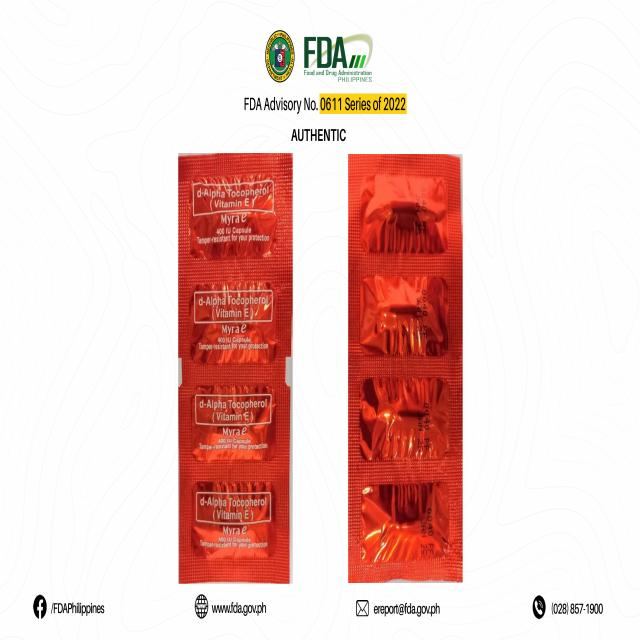authentic: (175, 144, 294, 584), (347, 150, 462, 587)
